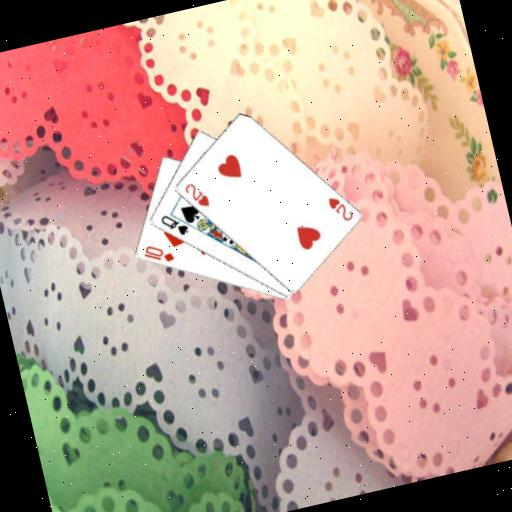10D: (139, 238, 177, 269)
2H: (324, 191, 356, 227), (180, 177, 212, 212)
QS: (156, 207, 191, 241)
